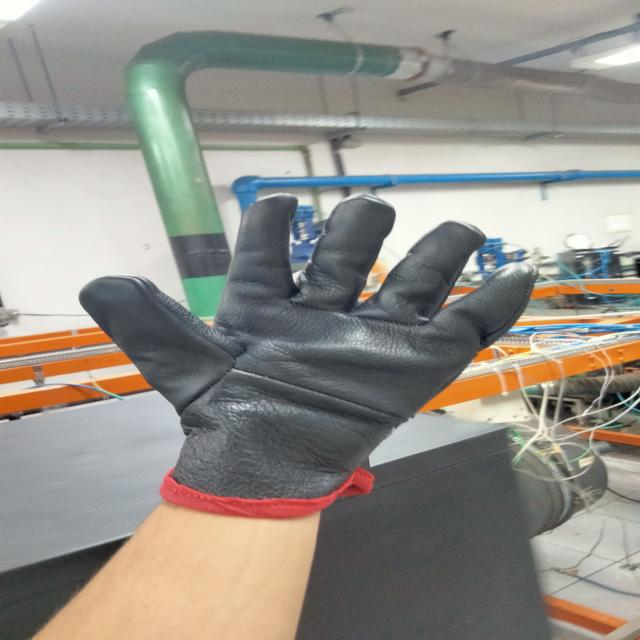Gloves: (68, 189, 540, 517)
